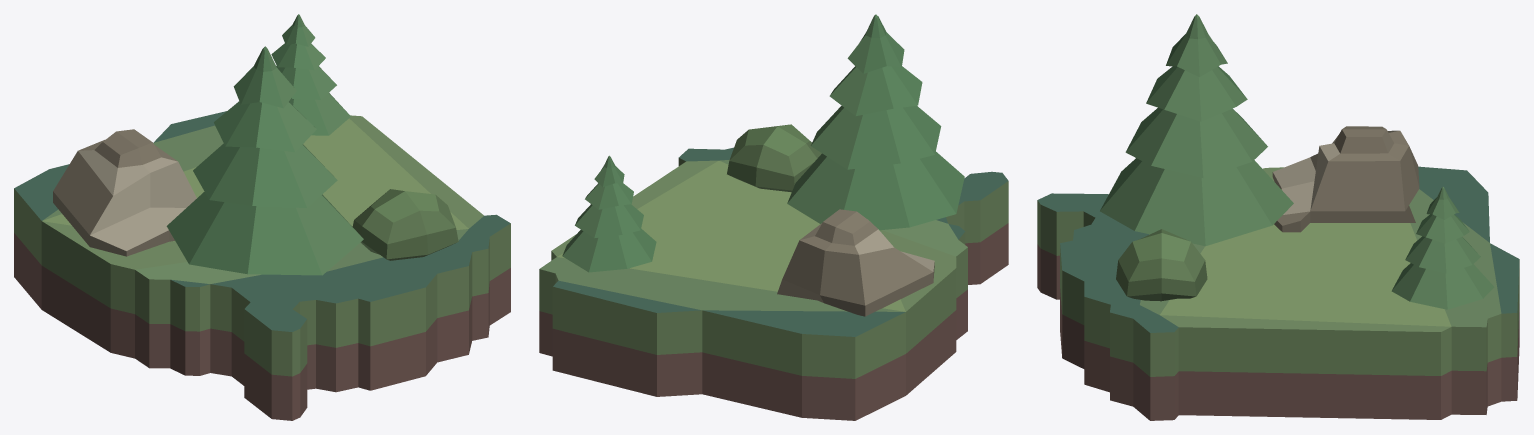
The model's file is borogonsi.gltf.
The picture shows the model from 3 angles, left to right: view 1: azimuth 30°, elevation 25°; view 2: azimuth 150°, elevation 25°; view 3: azimuth 270°, elevation 25°; orthographic projection. The views are drawn at different scales.
Visible parts, largest first — view 1: борогонцы; view 2: борогонцы; view 3: борогонцы.
Boxes of the visible parts, <box> form: борогонцы: <box>14,14,510,420</box>; борогонцы: <box>539,14,1008,420</box>; борогонцы: <box>1037,14,1519,420</box>.
Bounding box in the file's own units: 0.6433 × 0.5325 × 0.7761.
